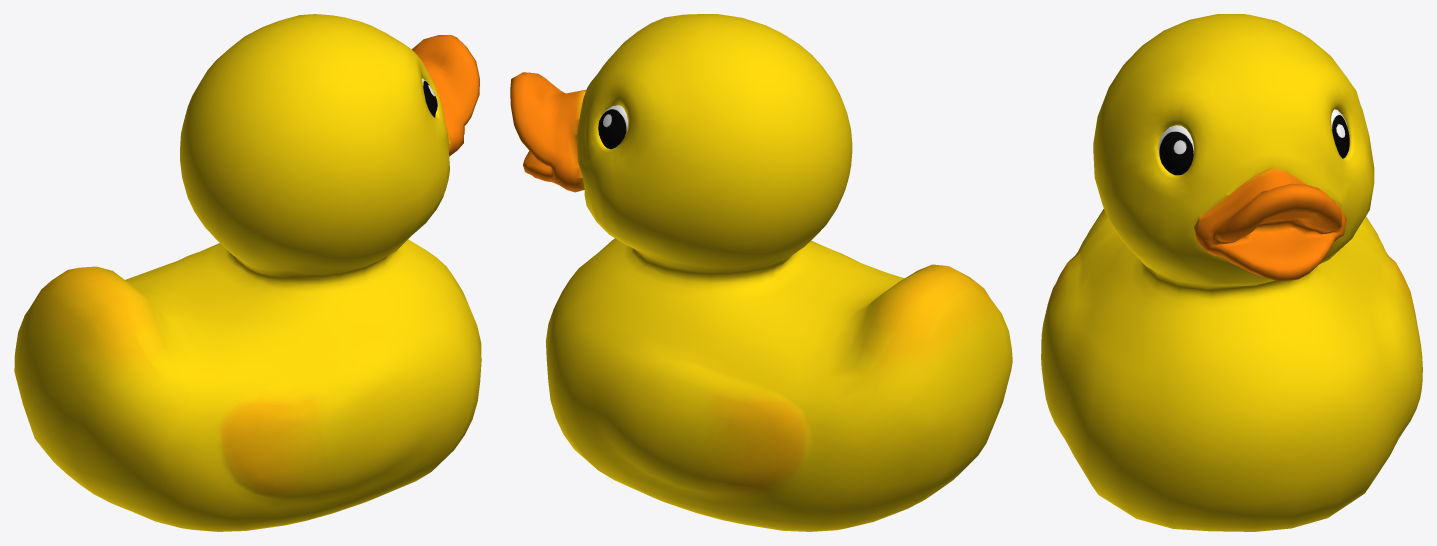
The model's file is Duck-Compressed.glb.
3 views of the same model, side by side, from view 1: azimuth 30°, elevation 25°; view 2: azimuth 150°, elevation 25°; view 3: azimuth 270°, elevation 25° (orthographic). The views are drawn at different scales.
Visible parts, largest first — view 1: LOD3spShape; view 2: LOD3spShape; view 3: LOD3spShape.
Part boxes in pixels (<box>): LOD3spShape: <box>14,14,481,531</box>; LOD3spShape: <box>510,14,1012,531</box>; LOD3spShape: <box>1041,14,1422,531</box>.
Bounding box in the file's own units: 1.65 × 1.54 × 1.15.
Materials: 1 (1 with a texture image).
